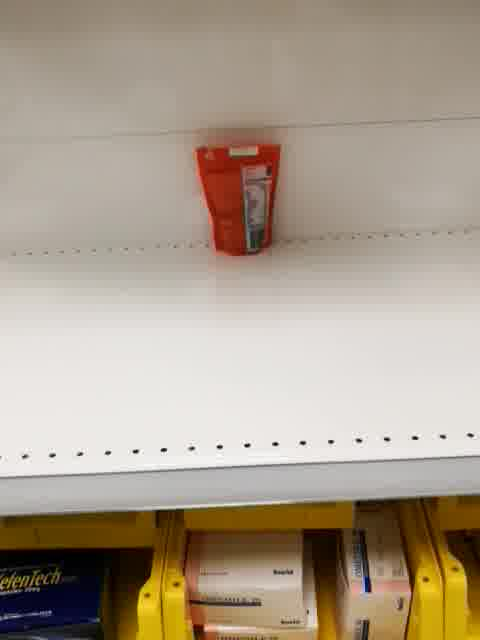whitechia: (193, 140, 285, 259)
